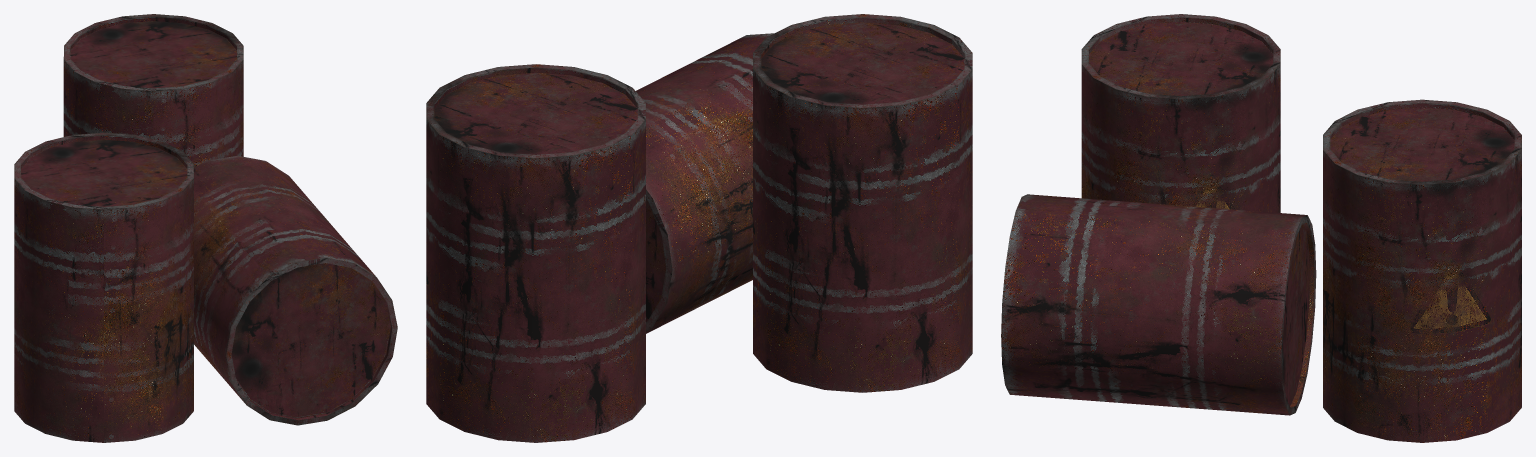
Rendered from Varil.fbx.
3 renders of one model, left to right at view 1: azimuth 30°, elevation 25°; view 2: azimuth 150°, elevation 25°; view 3: azimuth 270°, elevation 25°, orthographic. The views are drawn at different scales.
Parts seen in each view (by area): view 1: Cylinder.004; view 2: Cylinder.004; view 3: Cylinder.004.
Part boxes in pixels (<box>): Cylinder.004: <box>14,14,397,442</box>; Cylinder.004: <box>426,14,972,442</box>; Cylinder.004: <box>1001,14,1521,442</box>.
Size of the model in its own units: 296 by 200 by 366.
